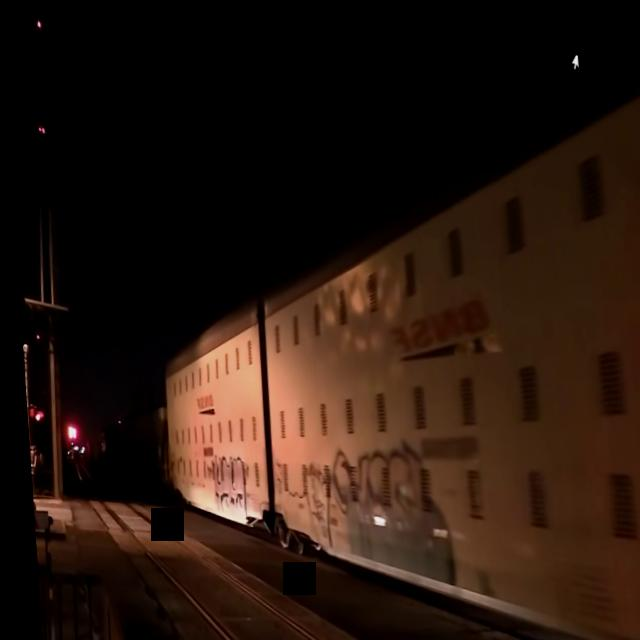autorack: (242, 18, 640, 640), (150, 271, 269, 536)
